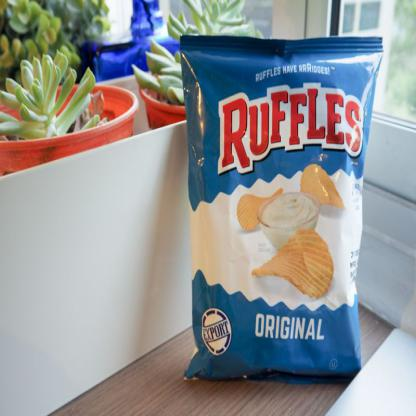potatochip: (170, 28, 386, 388)
